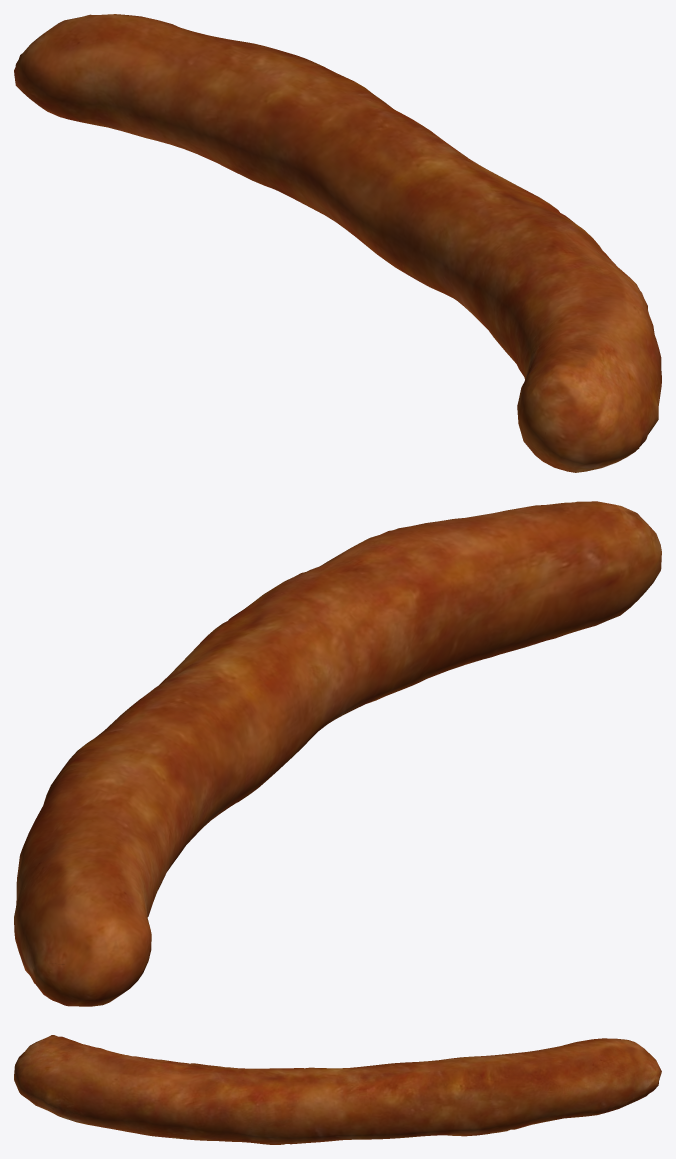
File: saucisse.glb
3 renders of one model, top to bottom at view 1: azimuth 30°, elevation 25°; view 2: azimuth 150°, elevation 25°; view 3: azimuth 270°, elevation 25°, orthographic. The views are drawn at different scales.
Visible parts, largest first — view 1: Saucisse; view 2: Saucisse; view 3: Saucisse.
Boxes of the visible parts, x1=… form: Saucisse: x1=14, y1=14, x2=661, y2=472; Saucisse: x1=14, y1=501, x2=661, y2=1006; Saucisse: x1=14, y1=1035, x2=661, y2=1144.
Bounding box in the file's own units: 75.38 × 36.69 × 300.
1 material, 1 textured.
